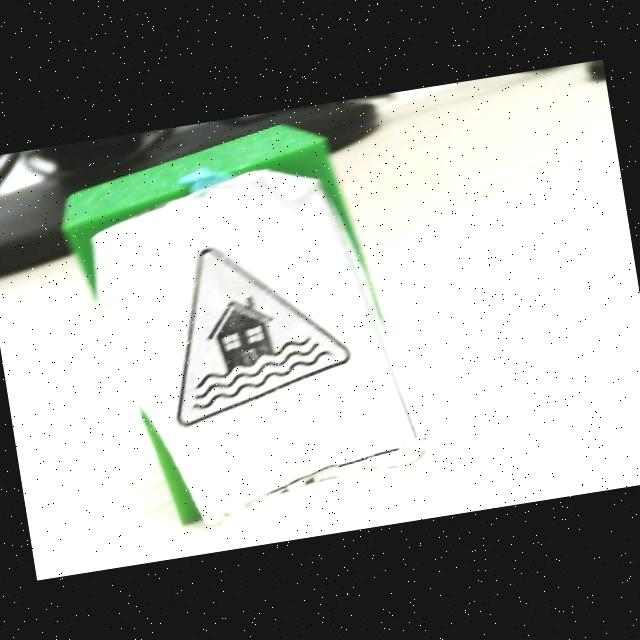Tsunami: (178, 249, 350, 426)
